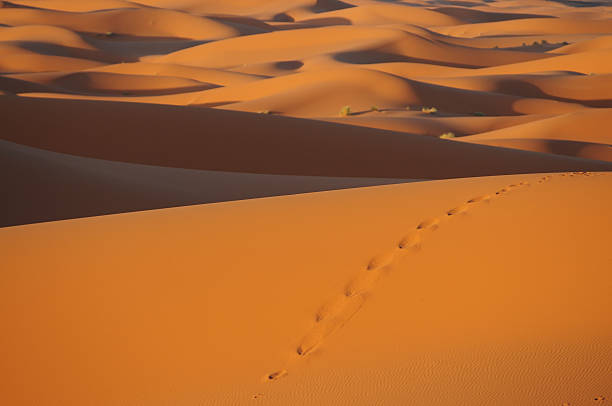animal_footprint: (295, 217, 442, 357), (296, 295, 364, 355), (344, 271, 381, 296), (366, 251, 394, 269), (398, 230, 421, 249), (416, 217, 439, 230), (446, 204, 468, 215), (266, 369, 287, 380), (467, 194, 490, 203)
